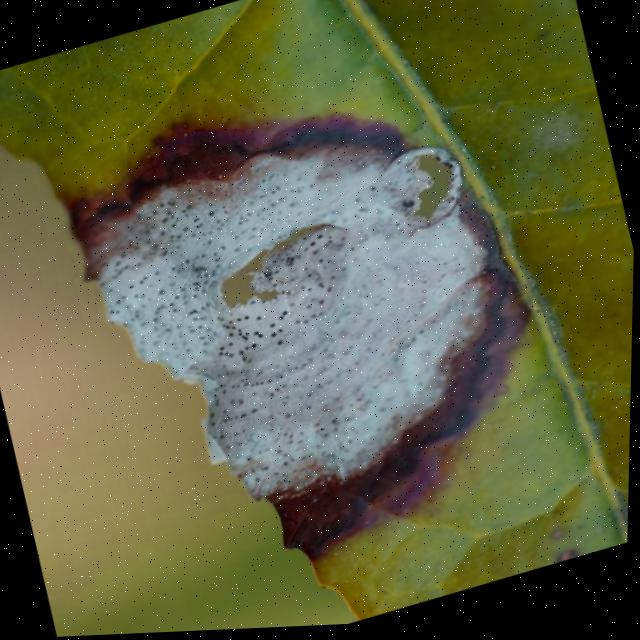Tea cloud leaf blight: (82, 29, 581, 598)
